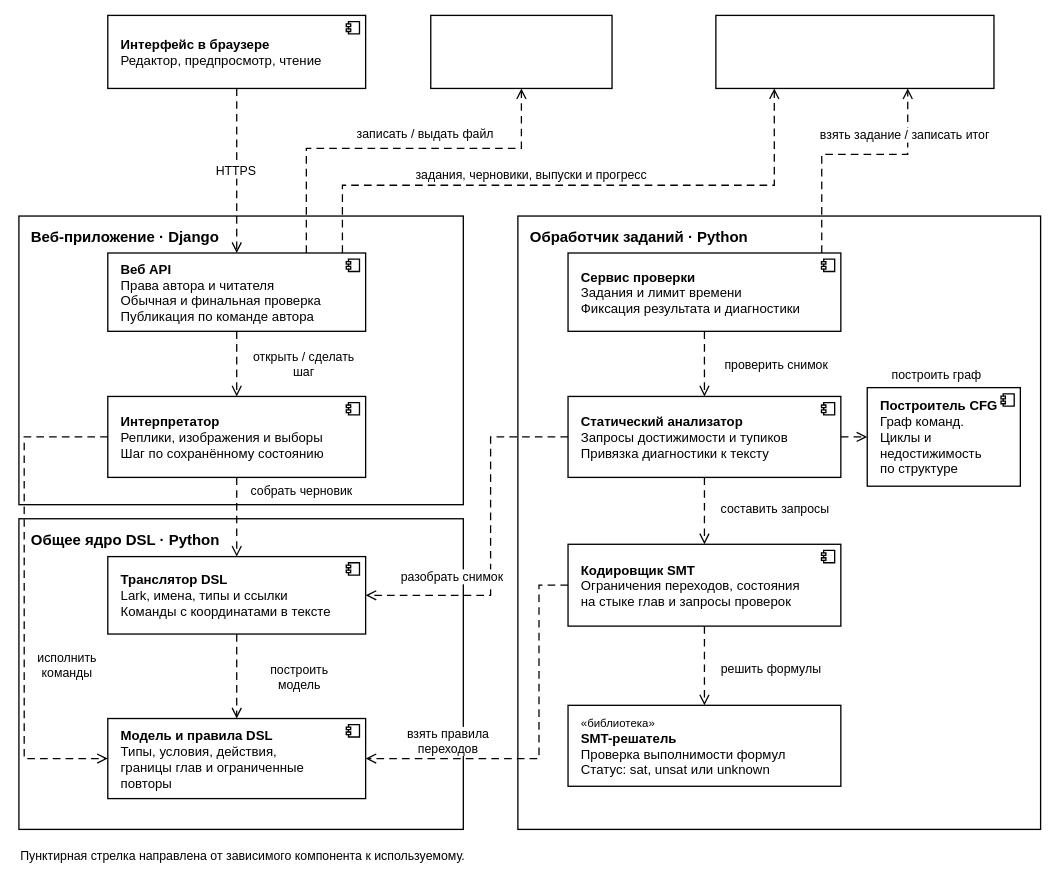
The diagram is 1057 pixels wide and 882 high, and some of its shapes have lost their labels. The centre of each missing label's shape, as x and y in pixels:
"«хранилище» PostgreSQL Задания, выпуски и прохождения" goes at pixel 854 51.
"«хранилище» Изображения Файлы по хешу" goes at pixel 521 51.
